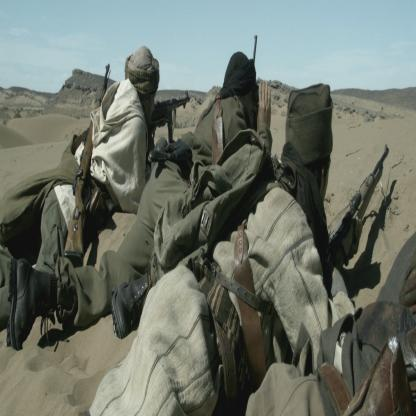gun: (63, 48, 116, 279), (330, 141, 398, 282), (154, 83, 197, 123)
